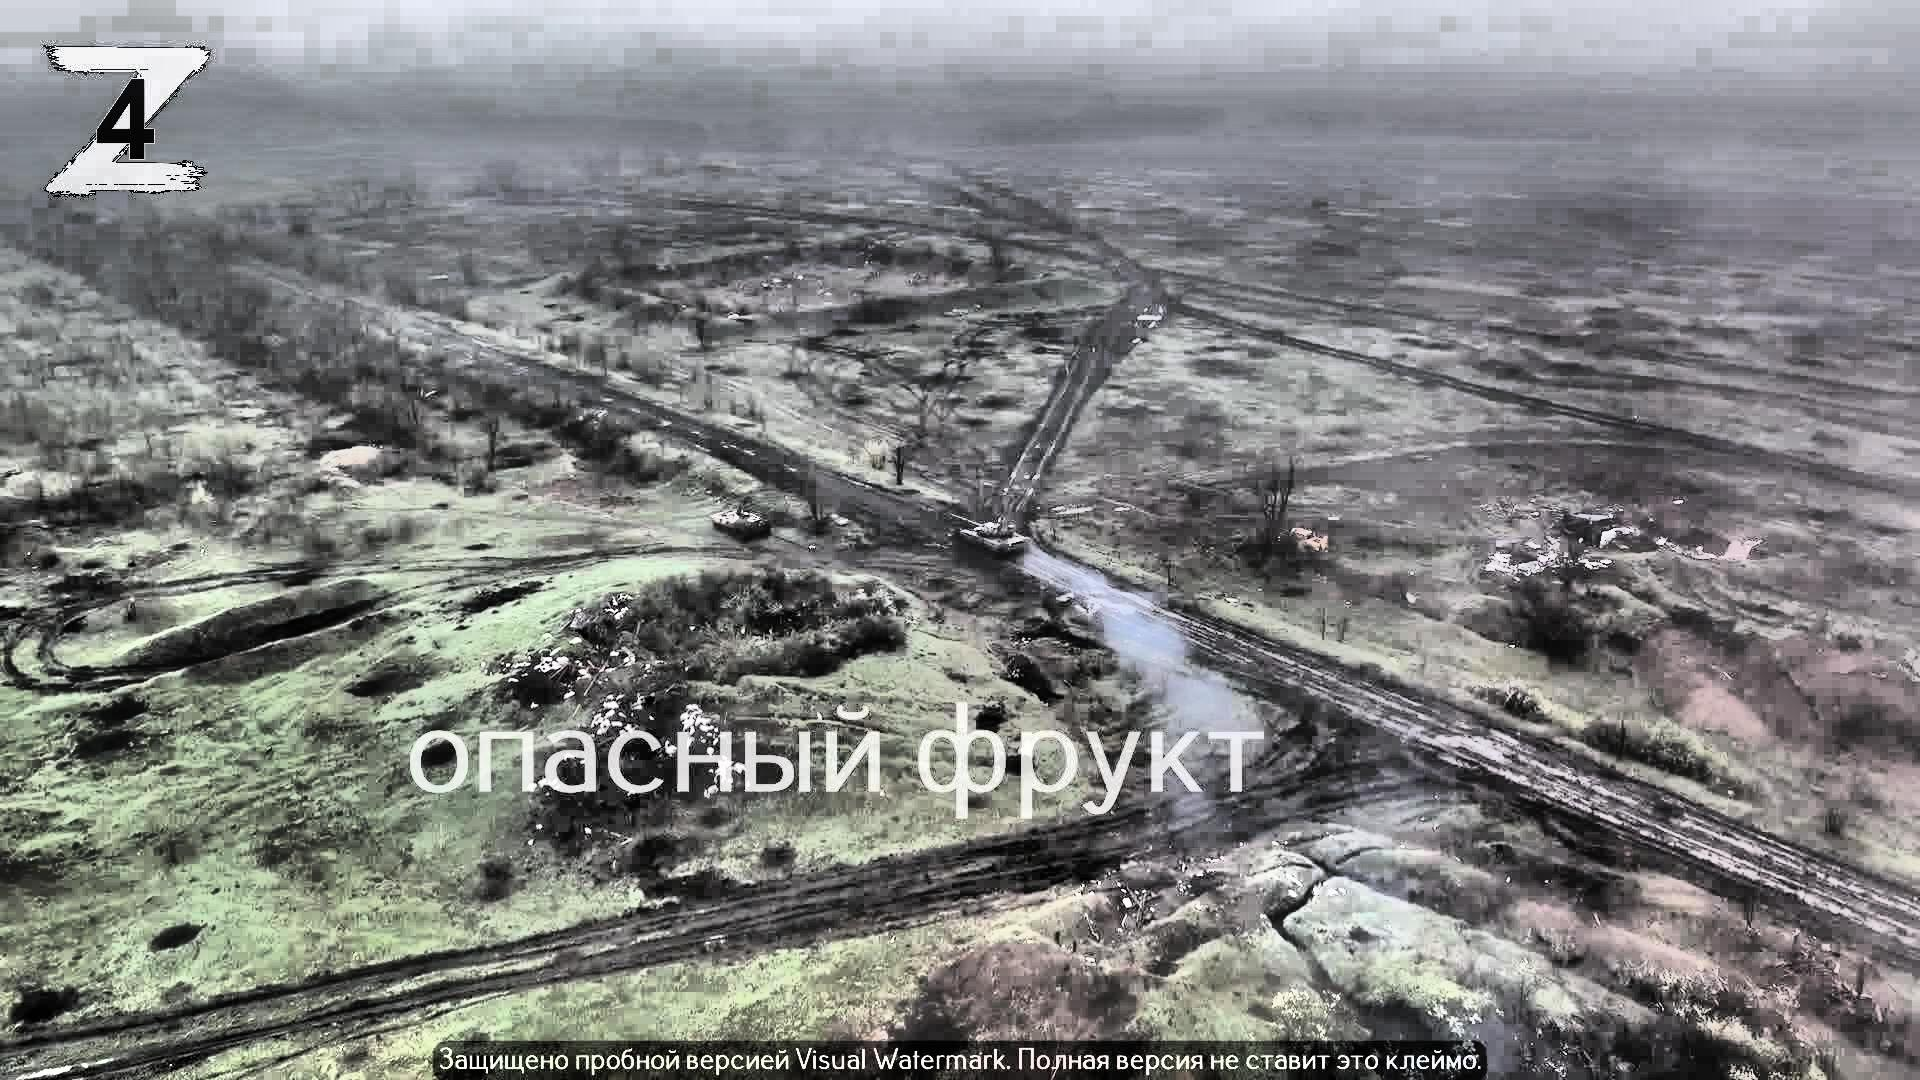military-vehicle: (949, 513, 1027, 556), (708, 506, 769, 535)
